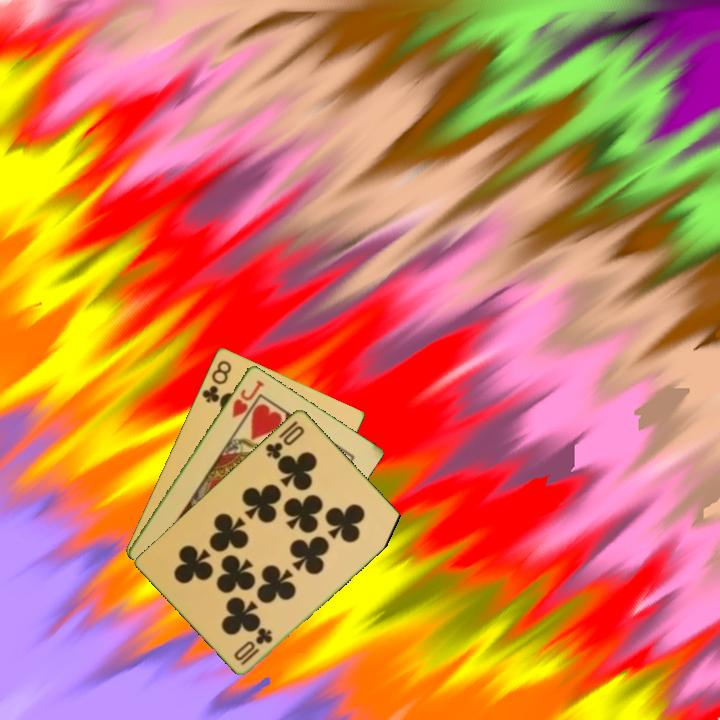10c: (262, 417, 307, 462), (237, 624, 276, 668)
8c: (198, 356, 234, 405)
Jh: (228, 376, 267, 421)
